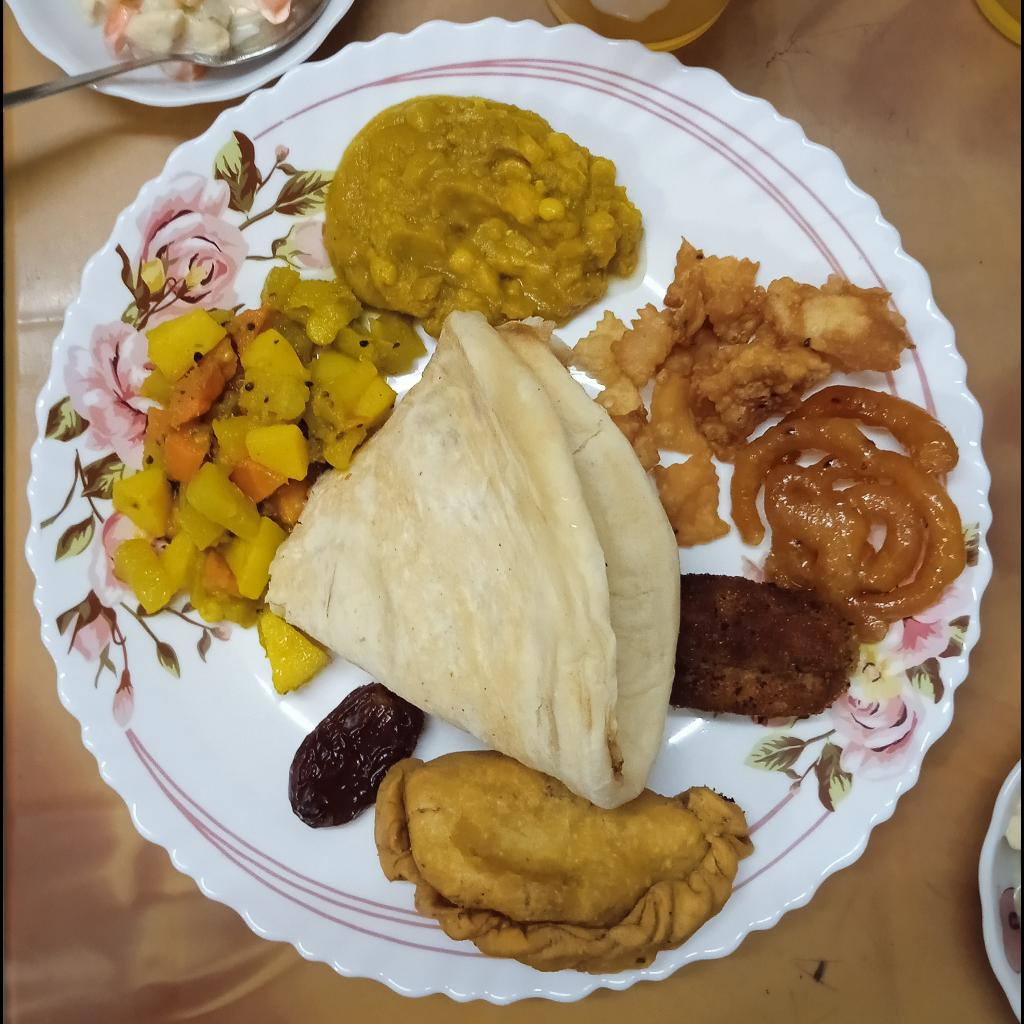chomchom: (570, 238, 916, 547)
chop-alu: (673, 574, 862, 717)
daal: (323, 96, 647, 340)
dates: (288, 684, 426, 829)
jilapi: (731, 387, 966, 644)
ruti: (269, 311, 679, 811)
salad: (83, 0, 291, 81)
sweets: (375, 750, 754, 975)
vegetable: (113, 265, 428, 698)
